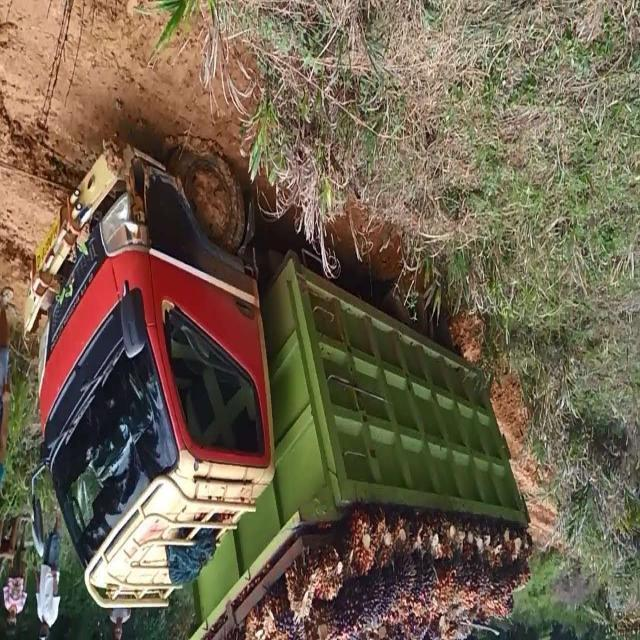truck: (24, 118, 534, 640)
